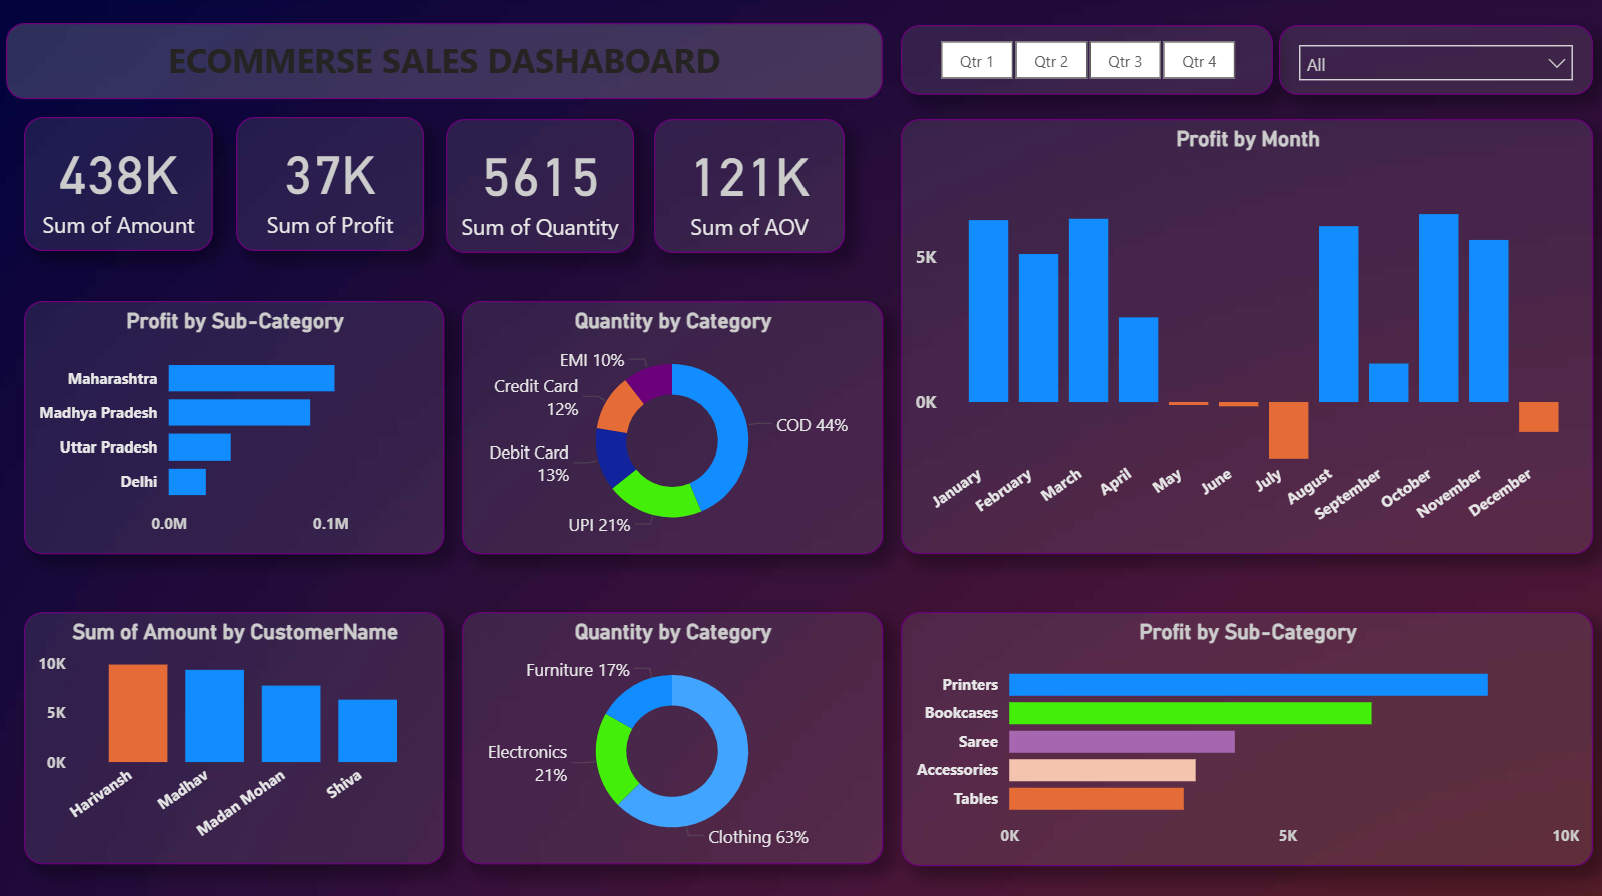

The page's visual inventory and layout, read from the dashboard file:
{"tool":"powerbi","page":{"name":"Page 1","canvas":[1280,720],"ordinal":0},"visuals":[{"type":"textbox","box":[7.9,22.3,696.2,60.4],"z":0},{"type":"columnChart","title":"Profit by Month","fields":{"Category":["Orders.Order Date.Variation.Date Hierarchy.Month"],"Y":["Sum(Details.Profit)"]},"box":[718.4,98.5,549.9,344.9],"z":1000},{"type":"barChart","title":"Profit by Sub-Category","fields":{"Category":["Details.Sub-Category"],"Y":["Sum(Details.Profit)"]},"box":[718.4,489.5,549.9,201.9],"z":2000},{"type":"donutChart","title":"Quantity by Category","fields":{"Category":["Details.Category"],"Y":["Sum(Details.Quantity)"]},"box":[370.3,489.5,333.8,200.3],"z":3000},{"type":"donutChart","title":"Quantity by Category","fields":{"Y":["Sum(Details.Quantity)"],"Category":["Details.PaymentMode"]},"box":[370.3,243.2,333.8,200.3],"z":4000},{"type":"card","fields":{"Values":["Sum(Details.Amount)"]},"box":[22.3,97,150,106.5],"z":5000},{"type":"card","fields":{"Values":["Sum(Details.AOV)"]},"box":[522.9,98.5,151,106.5],"z":6000},{"type":"card","fields":{"Values":["Sum(Details.Quantity)"]},"box":[357.6,98.5,149.4,106.5],"z":7000},{"type":"card","fields":{"Values":["Sum(Details.Profit)"]},"box":[190.7,97,149.4,106.5],"z":8000},{"type":"barChart","title":"Profit by Sub-Category","fields":{"Category":["Orders.State"],"Y":["Sum(Details.Amount)"]},"box":[22.3,243.2,333.8,200.3],"z":9000},{"type":"columnChart","fields":{"Category":["Orders.CustomerName"],"Y":["Sum(Details.Amount)"]},"box":[22.3,489.5,333.8,200.3],"z":10000},{"type":"slicer","fields":{"Values":["Orders.Order Date.Variation.Date Hierarchy.Quarter"]},"box":[718.4,23.8,295.6,55.6],"z":11000},{"type":"slicer","fields":{"Values":["Orders.State"]},"box":[1018.8,23.8,249.5,55.6],"z":12000}]}

Visuals, with their boxes in screenshot pixels (x1, y1, x2, y2), scaled from the page's 1280x720 canvas onto the 1602x896 screenshot:
textbox: x1=10, y1=28, x2=881, y2=103
"Profit by Month" columnChart: x1=899, y1=123, x2=1587, y2=552
"Profit by Sub-Category" barChart: x1=899, y1=609, x2=1587, y2=860
"Quantity by Category" donutChart: x1=463, y1=609, x2=881, y2=858
"Quantity by Category" donutChart: x1=463, y1=303, x2=881, y2=552
card - Sum(Details.Amount): x1=28, y1=121, x2=216, y2=253
card - Sum(Details.AOV): x1=654, y1=123, x2=843, y2=255
card - Sum(Details.Quantity): x1=448, y1=123, x2=635, y2=255
card - Sum(Details.Profit): x1=239, y1=121, x2=426, y2=253
"Profit by Sub-Category" barChart: x1=28, y1=303, x2=446, y2=552
columnChart - Orders.CustomerName x Sum(Details.Amount): x1=28, y1=609, x2=446, y2=858
slicer - Orders.Order Date.Variation.Date Hierarchy.Quarter: x1=899, y1=30, x2=1269, y2=99
slicer - Orders.State: x1=1275, y1=30, x2=1587, y2=99
